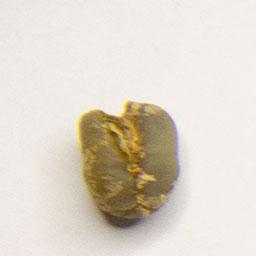peaberry: (74, 96, 184, 226)
